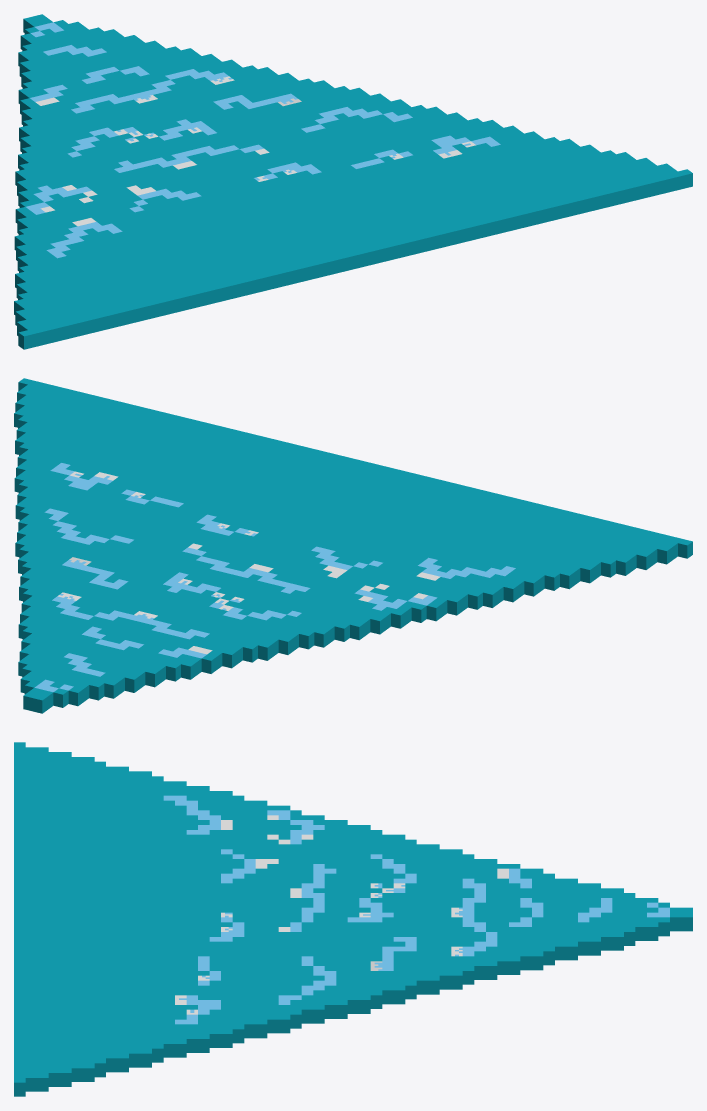
Rendered from water.vox.obj.
3 views of the same model, one above another, from view 1: azimuth 30°, elevation 25°; view 2: azimuth 150°, elevation 25°; view 3: azimuth 270°, elevation 25° (orthographic). The views are drawn at different scales.
Bounding box in the file's own units: 21 × 0.4 × 17.7.
1 material, 1 textured.
